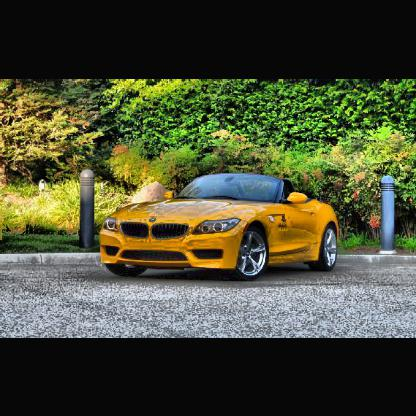BMW Z4 Convertible 2012: (103, 174, 342, 280)
